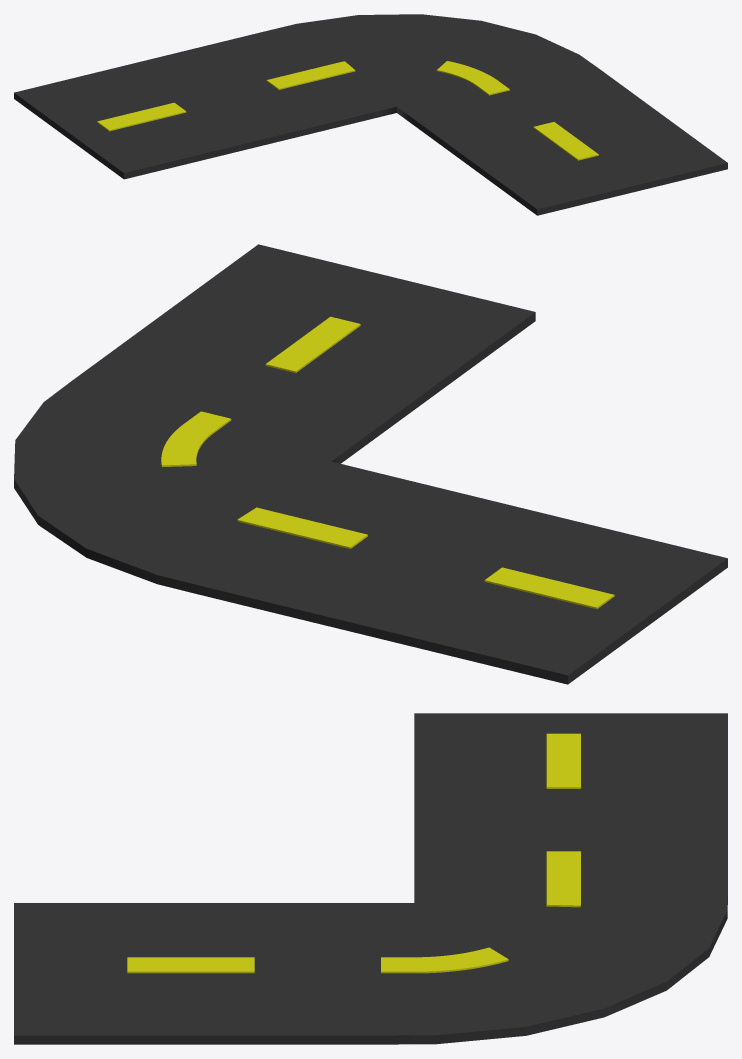
File: road 45.fbx
3 renders of one model, top to bottom at view 1: azimuth 30°, elevation 25°; view 2: azimuth 150°, elevation 25°; view 3: azimuth 270°, elevation 25°, orthographic. The views are drawn at different scales.
Visible parts, largest first — view 1: box005; view 2: box005; view 3: box005.
Part boxes in pixels (x1,y1,x2,y2): box005: (14,14,727,215); box005: (14,244,727,684); box005: (14,713,727,1044).
Bounding box in the file's own units: 237 × 4.27 × 222.
